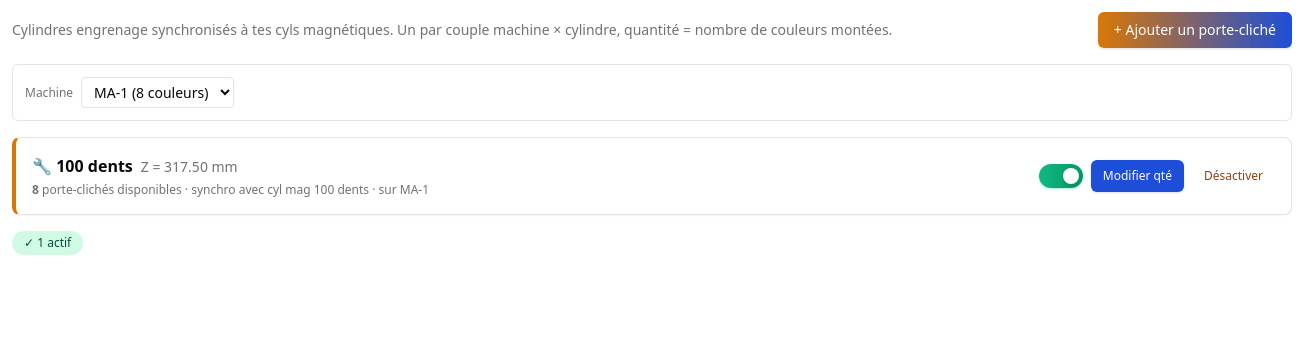
Scenario: PorteClichesOnglet — fix filtre Toutes › sélection 'Toutes' (machineFilter=null) déclenche rafraîchir → liste mise à jour
The image size is (1304, 358).
Expected: the text "Z = 317.50 mm" is shown, left=141, top=157, right=238, bottom=177
Expected: the text "Z = 381.00 mm" is not shown
Select "Toutes" in the dropdown at x=158, y=92, box left=81, top=77, right=234, bottom=108
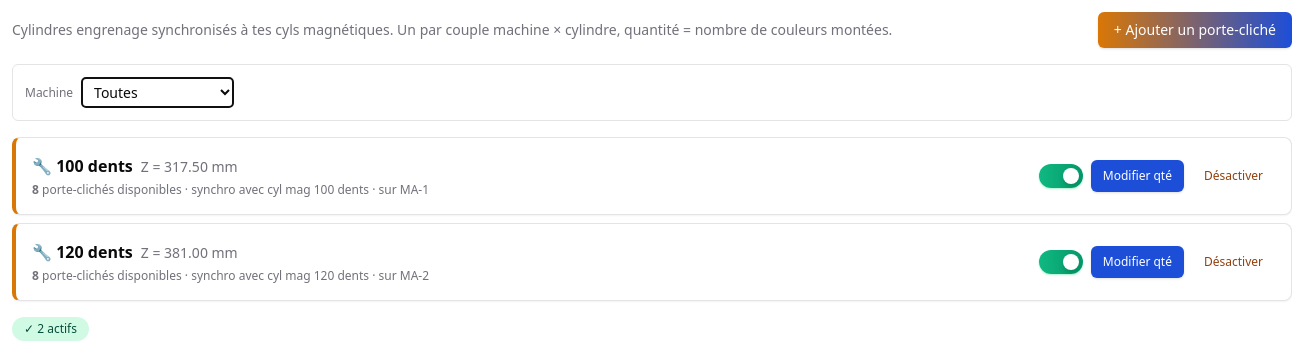
Expected: the text "Z = 317.50 mm" is shown, left=141, top=157, right=238, bottom=177
Now the text "Z = 381.00 mm" is shown, box left=141, top=243, right=238, bottom=263
